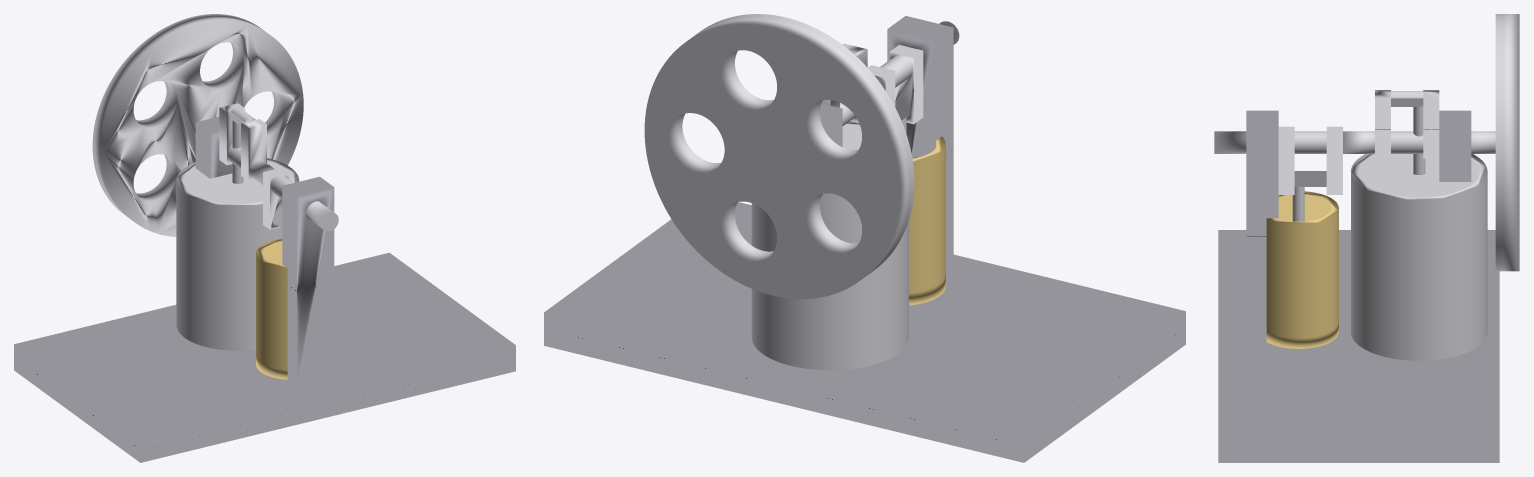
The model's file is stirling-engine.glb.
3 renders of one model, left to right at view 1: azimuth 30°, elevation 25°; view 2: azimuth 150°, elevation 25°; view 3: azimuth 270°, elevation 25°, orthographic. The views are drawn at different scales.
Visible parts, largest first — view 1: base-1, crank-1, disp-cyl-1, stand-a, pwr-cyl-1, stand-b; view 2: base-1, crank-1, disp-cyl-1, stand-a, pwr-cyl-1, stand-b; view 3: base-1, disp-cyl-1, crank-1, pwr-cyl-1, stand-a, stand-b, disp-rod-1, pwr-rod-1.
Boxes of the visible parts, x1=… form: base-1: x1=14, y1=252, x2=515, y2=462; crank-1: x1=92, y1=14, x2=338, y2=236; disp-cyl-1: x1=176, y1=158, x2=299, y2=350; stand-a: x1=282, y1=176, x2=334, y2=385; pwr-cyl-1: x1=256, y1=238, x2=287, y2=379; stand-b: x1=195, y1=116, x2=232, y2=178; base-1: x1=544, y1=202, x2=1185, y2=462; crank-1: x1=644, y1=14, x2=959, y2=299; disp-cyl-1: x1=751, y1=121, x2=908, y2=370; stand-a: x1=887, y1=16, x2=953, y2=275; pwr-cyl-1: x1=909, y1=136, x2=945, y2=305; stand-b: x1=820, y1=103, x2=842, y2=146; base-1: x1=1218, y1=230, x2=1499, y2=462; disp-cyl-1: x1=1351, y1=154, x2=1487, y2=360; crank-1: x1=1214, y1=14, x2=1519, y2=271; pwr-cyl-1: x1=1266, y1=191, x2=1338, y2=348; stand-a: x1=1246, y1=110, x2=1278, y2=341; stand-b: x1=1439, y1=110, x2=1471, y2=181; disp-rod-1: x1=1413, y1=106, x2=1425, y2=174; pwr-rod-1: x1=1292, y1=186, x2=1304, y2=221.
Bounding box in the file's own units: 120 × 92 × 76.
